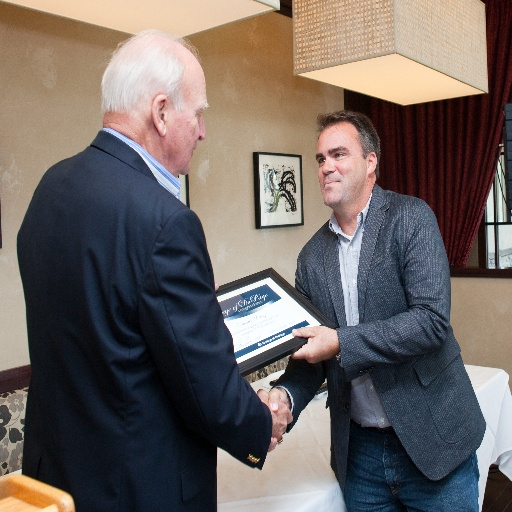hand: (290, 324, 339, 365), (267, 387, 291, 451), (213, 281, 220, 289)
